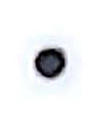cancer: (15, 30, 87, 100)
